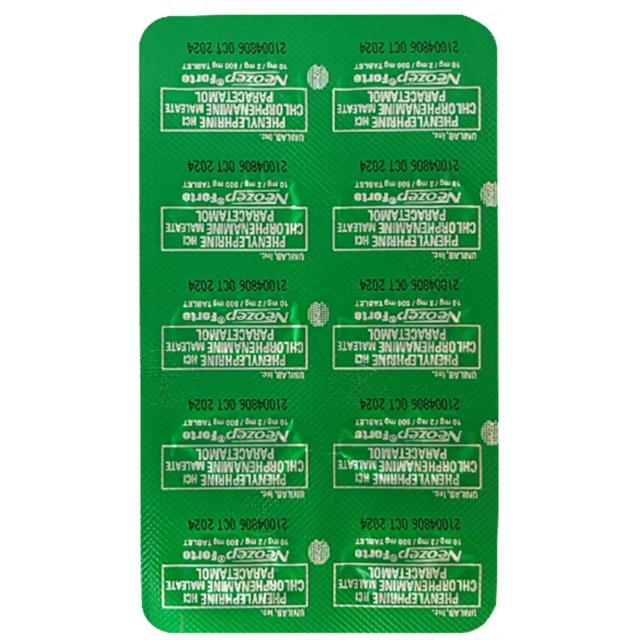blister: (130, 9, 514, 637)
